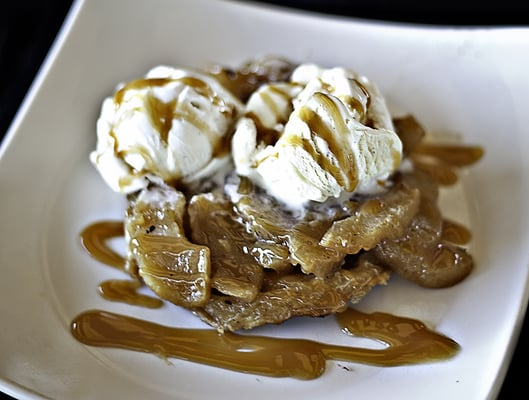sushi: (4, 0, 529, 398)
